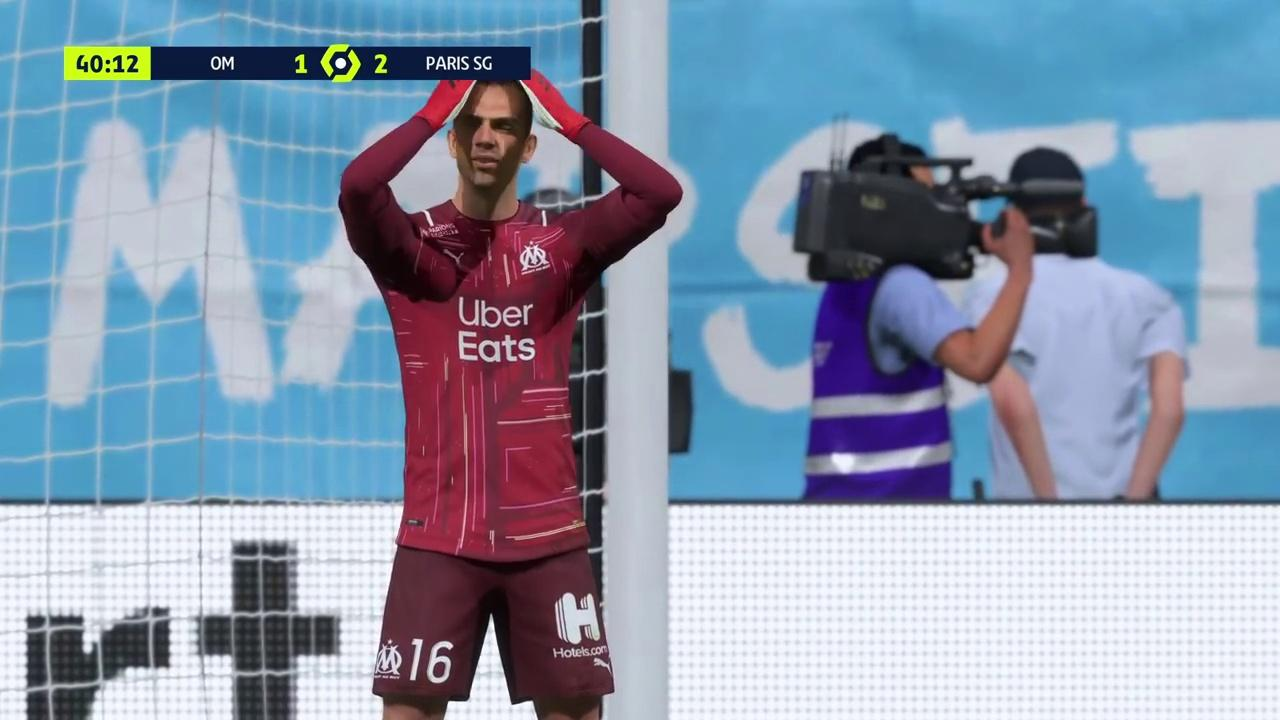scoreboard: (158, 51, 527, 80)
timestamp: (65, 48, 153, 78)
